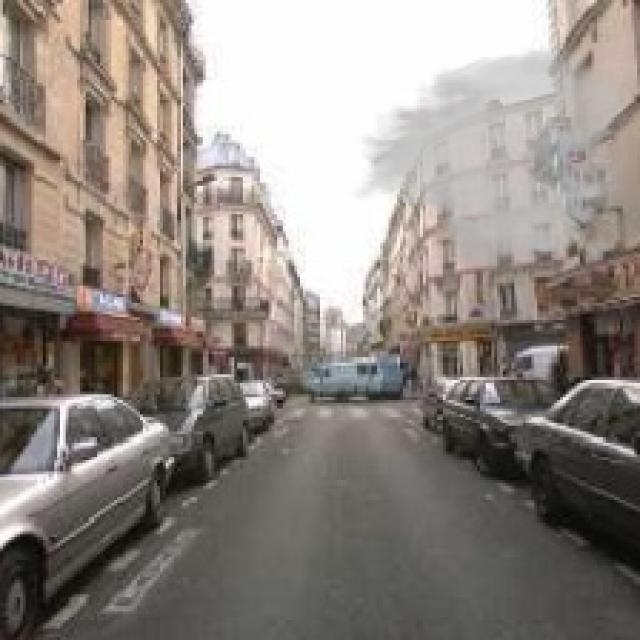Smoke: (348, 45, 632, 272)
